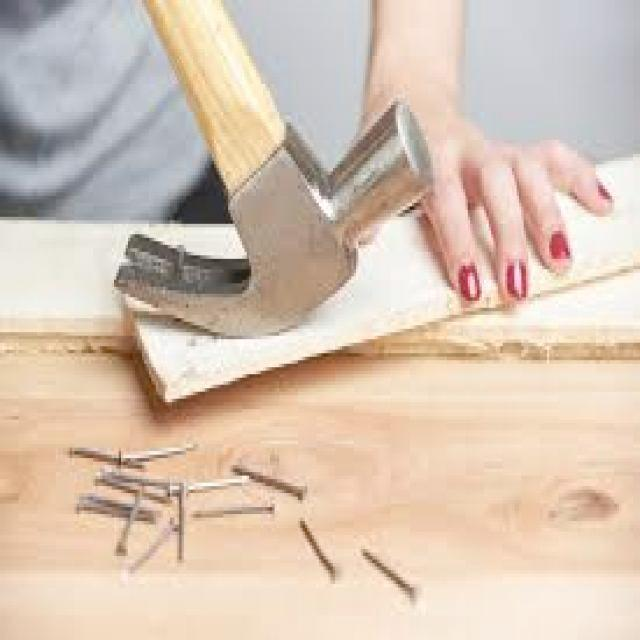hammer: (99, 0, 441, 357)
